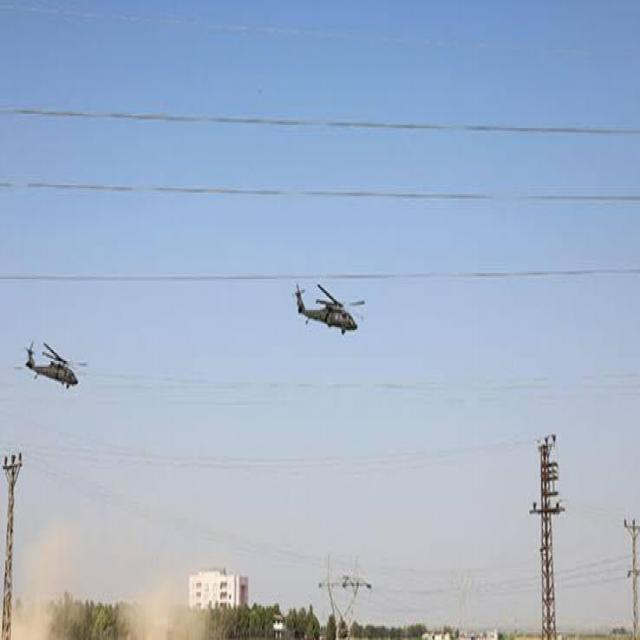helicopter: (286, 274, 372, 349), (24, 331, 80, 400)
